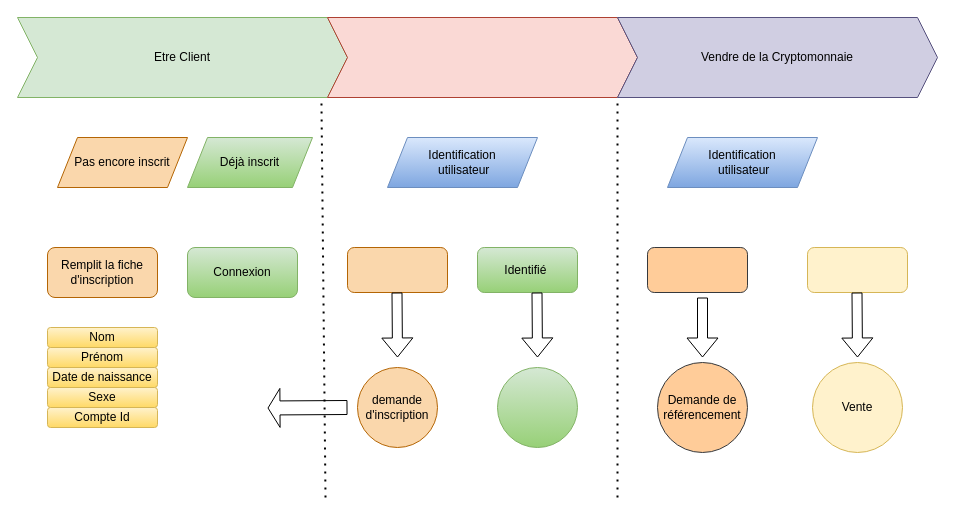
Some shapes in this 955 by 517 pixel diagram are drawn without their labels. The centre of each missing label's shape, as x and y in pixels:
"acheter" goes at point 537,407.
"Acheter de la Cryptomonnaie" goes at point 482,57.
"Non identifié" goes at point 397,269.
"Utilisateur non référencé" goes at point 697,269.
"Utilisateur référencé" goes at point 857,269.
